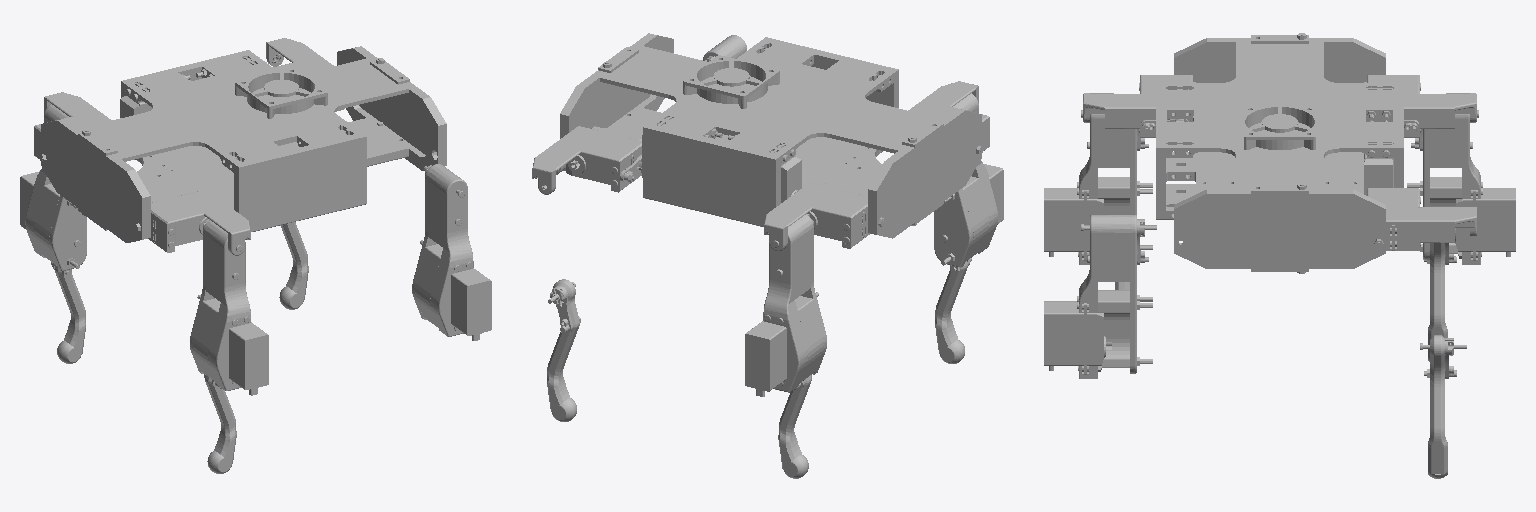
URDF robot description (urd_robot_cuadrupedo_v4):
<?xml version="1.0" encoding="utf-8"?>
<!-- This URDF was automatically created by SolidWorks to URDF Exporter! Originally created by [author] ([email redacted]) 
     Commit Version: 1.6.0-4-g7f85cfe  Build Version: 1.6.7995.38578
     For more information, please see http://wiki.ros.org/sw_urdf_exporter -->
<robot
  name="urd_robot_cuadrupedo_v4">
  <link
    name="base_robot">
    <inertial>
      <origin
        xyz="-0.0023228 3.1531E-05 0.022788"
        rpy="0 0 0" />
      <mass
        value="0.68605" />
      <inertia
        ixx="0.0011299"
        ixy="1.1936E-07"
        ixz="-1.0334E-06"
        iyy="0.0011234"
        iyz="-2.8781E-08"
        izz="0.0021297" />
    </inertial>
    <visual>
      <origin
        xyz="0 0 0"
        rpy="0 0 0" />
      <geometry>
        <mesh
          filename="package://urd_robot_cuadrupedo_v4/meshes/base_robot.STL" />
      </geometry>
      <material
        name="">
        <color
          rgba="0.75294 0.75294 0.75294 1" />
      </material>
    </visual>
    <collision>
      <origin
        xyz="0 0 0"
        rpy="0 0 0" />
      <geometry>
        <mesh
          filename="package://urd_robot_cuadrupedo_v4/meshes/base_robot.STL" />
      </geometry>
    </collision>
  </link>
  <link
    name="eslabon_coxa_derecha_delantera">
    <inertial>
      <origin
        xyz="-0.0090269 0.001623 0.035369"
        rpy="0 0 0" />
      <mass
        value="0.076" />
      <inertia
        ixx="1.4748E-05"
        ixy="4.9519E-07"
        ixz="2.4535E-06"
        iyy="2.7861E-05"
        iyz="-3.2608E-07"
        izz="1.7467E-05" />
    </inertial>
    <visual>
      <origin
        xyz="0 0 0"
        rpy="0 0 0" />
      <geometry>
        <mesh
          filename="package://urd_robot_cuadrupedo_v4/meshes/eslabon_coxa_derecha_delantera.STL" />
      </geometry>
      <material
        name="">
        <color
          rgba="0.75294 0.75294 0.75294 1" />
      </material>
    </visual>
    <collision>
      <origin
        xyz="0 0 0"
        rpy="0 0 0" />
      <geometry>
        <mesh
          filename="package://urd_robot_cuadrupedo_v4/meshes/eslabon_coxa_derecha_delantera.STL" />
      </geometry>
    </collision>
  </link>
  <joint
    name="Motor1"
    type="revolute">
    <origin
      xyz="0.0556 -0.0678 0.017"
      rpy="1.5708 0 1.5708" />
    <parent
      link="base_robot" />
    <child
      link="eslabon_coxa_derecha_delantera" />
    <axis
      xyz="0 0 1" />
    <limit
      lower="0"
      upper="0"
      effort="0"
      velocity="0" />
  </joint>
  <link
    name="eslabon_femur_derecha_delantera">
    <inertial>
      <origin
        xyz="-0.037916 -0.062962 -0.0024207"
        rpy="0 0 0" />
      <mass
        value="0.1022" />
      <inertia
        ixx="4.8323E-05"
        ixy="-2.073E-06"
        ixz="-1.9564E-07"
        iyy="1.3118E-05"
        iyz="-3.536E-06"
        izz="5.4793E-05" />
    </inertial>
    <visual>
      <origin
        xyz="0 0 0"
        rpy="0 0 0" />
      <geometry>
        <mesh
          filename="package://urd_robot_cuadrupedo_v4/meshes/eslabon_femur_derecha_delantera.STL" />
      </geometry>
      <material
        name="">
        <color
          rgba="0.75294 0.75294 0.75294 1" />
      </material>
    </visual>
    <collision>
      <origin
        xyz="0 0 0"
        rpy="0 0 0" />
      <geometry>
        <mesh
          filename="package://urd_robot_cuadrupedo_v4/meshes/eslabon_femur_derecha_delantera.STL" />
      </geometry>
    </collision>
  </link>
  <joint
    name="Motor5"
    type="revolute">
    <origin
      xyz="-0.0165 0.0002 0.0467"
      rpy="0 0 0" />
    <parent
      link="eslabon_coxa_derecha_delantera" />
    <child
      link="eslabon_femur_derecha_delantera" />
    <axis
      xyz="1 0 0" />
    <limit
      lower="0"
      upper="0"
      effort="0"
      velocity="0" />
  </joint>
  <link
    name="eslabon_tibia_derecha_delantera">
    <inertial>
      <origin
        xyz="-0.014256 -0.033591 -0.00052387"
        rpy="0 0 0" />
      <mass
        value="0.02333" />
      <inertia
        ixx="1.094E-05"
        ixy="1.3416E-08"
        ixz="3.5897E-09"
        iyy="7.9923E-07"
        iyz="8.1426E-07"
        izz="1.0939E-05" />
    </inertial>
    <visual>
      <origin
        xyz="0 0 0"
        rpy="0 0 0" />
      <geometry>
        <mesh
          filename="package://urd_robot_cuadrupedo_v4/meshes/eslabon_tibia_derecha_delantera.STL" />
      </geometry>
      <material
        name="">
        <color
          rgba="0.75294 0.75294 0.75294 1" />
      </material>
    </visual>
    <collision>
      <origin
        xyz="0 0 0"
        rpy="0 0 0" />
      <geometry>
        <mesh
          filename="package://urd_robot_cuadrupedo_v4/meshes/eslabon_tibia_derecha_delantera.STL" />
      </geometry>
    </collision>
  </link>
  <joint
    name="Motor9"
    type="revolute">
    <origin
      xyz="-0.0118 -0.09 0"
      rpy="0 0 0" />
    <parent
      link="eslabon_femur_derecha_delantera" />
    <child
      link="eslabon_tibia_derecha_delantera" />
    <axis
      xyz="1 0 0" />
    <limit
      lower="0"
      upper="0"
      effort="0"
      velocity="0" />
  </joint>
  <link
    name="eslabon_coxa_derecha_trazera">
    <inertial>
      <origin
        xyz="-0.0090269 0.0016241 -0.032487"
        rpy="0 0 0" />
      <mass
        value="0.076" />
      <inertia
        ixx="1.4778E-05"
        ixy="5.0366E-07"
        ixz="2.4094E-06"
        iyy="2.7891E-05"
        iyz="-3.4746E-07"
        izz="1.7467E-05" />
    </inertial>
    <visual>
      <origin
        xyz="0 0 0"
        rpy="0 0 0" />
      <geometry>
        <mesh
          filename="package://urd_robot_cuadrupedo_v4/meshes/eslabon_coxa_derecha_trazera.STL" />
      </geometry>
      <material
        name="">
        <color
          rgba="0.75294 0.75294 0.75294 1" />
      </material>
    </visual>
    <collision>
      <origin
        xyz="0 0 0"
        rpy="0 0 0" />
      <geometry>
        <mesh
          filename="package://urd_robot_cuadrupedo_v4/meshes/eslabon_coxa_derecha_trazera.STL" />
      </geometry>
    </collision>
  </link>
  <joint
    name="Motor2"
    type="revolute">
    <origin
      xyz="-0.0556 -0.0678 0.017"
      rpy="1.5708 0 1.5708" />
    <parent
      link="base_robot" />
    <child
      link="eslabon_coxa_derecha_trazera" />
    <axis
      xyz="0 0 1" />
    <limit
      lower="0"
      upper="0"
      effort="0"
      velocity="0" />
  </joint>
  <link
    name="eslabon_femur_derecha_trazera">
    <inertial>
      <origin
        xyz="-0.037916 -0.062962 -0.0024207"
        rpy="0 0 0" />
      <mass
        value="0.1022" />
      <inertia
        ixx="4.8323E-05"
        ixy="-2.073E-06"
        ixz="-1.9564E-07"
        iyy="1.3118E-05"
        iyz="-3.536E-06"
        izz="5.4793E-05" />
    </inertial>
    <visual>
      <origin
        xyz="0 0 0"
        rpy="0 0 0" />
      <geometry>
        <mesh
          filename="package://urd_robot_cuadrupedo_v4/meshes/eslabon_femur_derecha_trazera.STL" />
      </geometry>
      <material
        name="">
        <color
          rgba="0.75294 0.75294 0.75294 1" />
      </material>
    </visual>
    <collision>
      <origin
        xyz="0 0 0"
        rpy="0 0 0" />
      <geometry>
        <mesh
          filename="package://urd_robot_cuadrupedo_v4/meshes/eslabon_femur_derecha_trazera.STL" />
      </geometry>
    </collision>
  </link>
  <joint
    name="Motor6"
    type="revolute">
    <origin
      xyz="-0.0165 0.0002 -0.0267"
      rpy="0 0 0" />
    <parent
      link="eslabon_coxa_derecha_trazera" />
    <child
      link="eslabon_femur_derecha_trazera" />
    <axis
      xyz="1 0 0" />
    <limit
      lower="0"
      upper="0"
      effort="0"
      velocity="0" />
  </joint>
  <link
    name="eslabon_tibia_derecha_trazera">
    <inertial>
      <origin
        xyz="-0.014256 -0.033591 -0.00052387"
        rpy="0 0 0" />
      <mass
        value="0.02333" />
      <inertia
        ixx="1.094E-05"
        ixy="1.3416E-08"
        ixz="3.5897E-09"
        iyy="7.9923E-07"
        iyz="8.1426E-07"
        izz="1.0939E-05" />
    </inertial>
    <visual>
      <origin
        xyz="0 0 0"
        rpy="0 0 0" />
      <geometry>
        <mesh
          filename="package://urd_robot_cuadrupedo_v4/meshes/eslabon_tibia_derecha_trazera.STL" />
      </geometry>
      <material
        name="">
        <color
          rgba="0.75294 0.75294 0.75294 1" />
      </material>
    </visual>
    <collision>
      <origin
        xyz="0 0 0"
        rpy="0 0 0" />
      <geometry>
        <mesh
          filename="package://urd_robot_cuadrupedo_v4/meshes/eslabon_tibia_derecha_trazera.STL" />
      </geometry>
    </collision>
  </link>
  <joint
    name="Motor10"
    type="revolute">
    <origin
      xyz="-0.0118 -0.09 0"
      rpy="0 0 0" />
    <parent
      link="eslabon_femur_derecha_trazera" />
    <child
      link="eslabon_tibia_derecha_trazera" />
    <axis
      xyz="1 0 0" />
    <limit
      lower="0"
      upper="0"
      effort="0"
      velocity="0" />
  </joint>
  <link
    name="eslabon_coxa_izquierda_delantera">
    <inertial>
      <origin
        xyz="0.0090266 0.001627 0.035374"
        rpy="0 0 0" />
      <mass
        value="0.075981" />
      <inertia
        ixx="1.4729E-05"
        ixy="-5.0055E-07"
        ixz="-2.4484E-06"
        iyy="2.7844E-05"
        iyz="-3.1785E-07"
        izz="1.746E-05" />
    </inertial>
    <visual>
      <origin
        xyz="0 0 0"
        rpy="0 0 0" />
      <geometry>
        <mesh
          filename="package://urd_robot_cuadrupedo_v4/meshes/eslabon_coxa_izquierda_delantera.STL" />
      </geometry>
      <material
        name="">
        <color
          rgba="0.75294 0.75294 0.75294 1" />
      </material>
    </visual>
    <collision>
      <origin
        xyz="0 0 0"
        rpy="0 0 0" />
      <geometry>
        <mesh
          filename="package://urd_robot_cuadrupedo_v4/meshes/eslabon_coxa_izquierda_delantera.STL" />
      </geometry>
    </collision>
  </link>
  <joint
    name="Motor3"
    type="revolute">
    <origin
      xyz="0.0556 0.0678 0.017"
      rpy="1.5708 0 1.5708" />
    <parent
      link="base_robot" />
    <child
      link="eslabon_coxa_izquierda_delantera" />
    <axis
      xyz="0 0 1" />
    <limit
      lower="0"
      upper="0"
      effort="0"
      velocity="0" />
  </joint>
  <link
    name="eslabon_femur_izquierda_delantera">
    <inertial>
      <origin
        xyz="0.037916 -0.062962 -0.0024214"
        rpy="0 0 0" />
      <mass
        value="0.1022" />
      <inertia
        ixx="4.8323E-05"
        ixy="2.073E-06"
        ixz="1.9572E-07"
        iyy="1.3118E-05"
        iyz="-3.5447E-06"
        izz="5.4793E-05" />
    </inertial>
    <visual>
      <origin
        xyz="0 0 0"
        rpy="0 0 0" />
      <geometry>
        <mesh
          filename="package://urd_robot_cuadrupedo_v4/meshes/eslabon_femur_izquierda_delantera.STL" />
      </geometry>
      <material
        name="">
        <color
          rgba="0.75294 0.75294 0.75294 1" />
      </material>
    </visual>
    <collision>
      <origin
        xyz="0 0 0"
        rpy="0 0 0" />
      <geometry>
        <mesh
          filename="package://urd_robot_cuadrupedo_v4/meshes/eslabon_femur_izquierda_delantera.STL" />
      </geometry>
    </collision>
  </link>
  <joint
    name="Motor7"
    type="revolute">
    <origin
      xyz="0.0165 0.0002 0.0467"
      rpy="0 0 0" />
    <parent
      link="eslabon_coxa_izquierda_delantera" />
    <child
      link="eslabon_femur_izquierda_delantera" />
    <axis
      xyz="1 0 0" />
    <limit
      lower="0"
      upper="0"
      effort="0"
      velocity="0" />
  </joint>
  <link
    name="eslabon_tibia_izquierda_delantera">
    <inertial>
      <origin
        xyz="0.014256 -0.033592 -0.00052045"
        rpy="0 0 0" />
      <mass
        value="0.02333" />
      <inertia
        ixx="1.094E-05"
        ixy="-1.3419E-08"
        ixz="-3.601E-09"
        iyy="7.95E-07"
        iyz="8.2159E-07"
        izz="1.0943E-05" />
    </inertial>
    <visual>
      <origin
        xyz="0 0 0"
        rpy="0 0 0" />
      <geometry>
        <mesh
          filename="package://urd_robot_cuadrupedo_v4/meshes/eslabon_tibia_izquierda_delantera.STL" />
      </geometry>
      <material
        name="">
        <color
          rgba="0.75294 0.75294 0.75294 1" />
      </material>
    </visual>
    <collision>
      <origin
        xyz="0 0 0"
        rpy="0 0 0" />
      <geometry>
        <mesh
          filename="package://urd_robot_cuadrupedo_v4/meshes/eslabon_tibia_izquierda_delantera.STL" />
      </geometry>
    </collision>
  </link>
  <joint
    name="Motor11"
    type="revolute">
    <origin
      xyz="0.0118 -0.09 0"
      rpy="0 0 0" />
    <parent
      link="eslabon_femur_izquierda_delantera" />
    <child
      link="eslabon_tibia_izquierda_delantera" />
    <axis
      xyz="1 0 0" />
    <limit
      lower="0"
      upper="0"
      effort="0"
      velocity="0" />
  </joint>
  <link
    name="eslabon_coxa_izquierda_trasera">
    <inertial>
      <origin
        xyz="0.0090269 0.0016228 -0.032531"
        rpy="0 0 0" />
      <mass
        value="0.076" />
      <inertia
        ixx="1.4778E-05"
        ixy="-4.9508E-07"
        ixz="-2.4094E-06"
        iyy="2.7891E-05"
        iyz="-3.4767E-07"
        izz="1.7466E-05" />
    </inertial>
    <visual>
      <origin
        xyz="0 0 0"
        rpy="0 0 0" />
      <geometry>
        <mesh
          filename="package://urd_robot_cuadrupedo_v4/meshes/eslabon_coxa_izquierda_trasera.STL" />
      </geometry>
      <material
        name="">
        <color
          rgba="0.75294 0.75294 0.75294 1" />
      </material>
    </visual>
    <collision>
      <origin
        xyz="0 0 0"
        rpy="0 0 0" />
      <geometry>
        <mesh
          filename="package://urd_robot_cuadrupedo_v4/meshes/eslabon_coxa_izquierda_trasera.STL" />
      </geometry>
    </collision>
  </link>
  <joint
    name="Motor4"
    type="revolute">
    <origin
      xyz="-0.0556 0.0678 0.017"
      rpy="1.5708 0 1.5708" />
    <parent
      link="base_robot" />
    <child
      link="eslabon_coxa_izquierda_trasera" />
    <axis
      xyz="0 0 1" />
    <limit
      lower="0"
      upper="0"
      effort="0"
      velocity="0" />
  </joint>
  <link
    name="eslabon_femur_izquierda_trazera">
    <inertial>
      <origin
        xyz="0.037916 -0.062962 -0.0024214"
        rpy="0 0 0" />
      <mass
        value="0.1022" />
      <inertia
        ixx="4.8323E-05"
        ixy="2.073E-06"
        ixz="1.9572E-07"
        iyy="1.3118E-05"
        iyz="-3.5447E-06"
        izz="5.4793E-05" />
    </inertial>
    <visual>
      <origin
        xyz="0 0 0"
        rpy="0 0 0" />
      <geometry>
        <mesh
          filename="package://urd_robot_cuadrupedo_v4/meshes/eslabon_femur_izquierda_trazera.STL" />
      </geometry>
      <material
        name="">
        <color
          rgba="0.75294 0.75294 0.75294 1" />
      </material>
    </visual>
    <collision>
      <origin
        xyz="0 0 0"
        rpy="0 0 0" />
      <geometry>
        <mesh
          filename="package://urd_robot_cuadrupedo_v4/meshes/eslabon_femur_izquierda_trazera.STL" />
      </geometry>
    </collision>
  </link>
  <joint
    name="Motor8"
    type="revolute">
    <origin
      xyz="0.0165 0.0002 -0.0267"
      rpy="0 0 0" />
    <parent
      link="eslabon_coxa_izquierda_trasera" />
    <child
      link="eslabon_femur_izquierda_trazera" />
    <axis
      xyz="1 0 0" />
    <limit
      lower="0"
      upper="0"
      effort="0"
      velocity="0" />
  </joint>
  <link
    name="eslabon_tibia_izquierda_trasera">
    <inertial>
      <origin
        xyz="0.014256 -0.033592 -0.00052045"
        rpy="0 0 0" />
      <mass
        value="0.02333" />
      <inertia
        ixx="1.094E-05"
        ixy="-1.3419E-08"
        ixz="-3.601E-09"
        iyy="7.95E-07"
        iyz="8.2159E-07"
        izz="1.0943E-05" />
    </inertial>
    <visual>
      <origin
        xyz="0 0 0"
        rpy="0 0 0" />
      <geometry>
        <mesh
          filename="package://urd_robot_cuadrupedo_v4/meshes/eslabon_tibia_izquierda_trasera.STL" />
      </geometry>
      <material
        name="">
        <color
          rgba="0.75294 0.75294 0.75294 1" />
      </material>
    </visual>
    <collision>
      <origin
        xyz="0 0 0"
        rpy="0 0 0" />
      <geometry>
        <mesh
          filename="package://urd_robot_cuadrupedo_v4/meshes/eslabon_tibia_izquierda_trasera.STL" />
      </geometry>
    </collision>
  </link>
  <joint
    name="Motor12"
    type="revolute">
    <origin
      xyz="0.0118 -0.09 0"
      rpy="0 0 0" />
    <parent
      link="eslabon_femur_izquierda_trazera" />
    <child
      link="eslabon_tibia_izquierda_trasera" />
    <axis
      xyz="1 0 0" />
    <limit
      lower="0"
      upper="0"
      effort="0"
      velocity="0" />
  </joint>
</robot>

--- Facts derived from the render (not from the file) ---
The picture shows the robot from 3 angles, left to right: view 1: azimuth 30°, elevation 25°; view 2: azimuth 150°, elevation 25°; view 3: azimuth 270°, elevation 25°; orthographic projection.
Robot: urd_robot_cuadrupedo_v4 — 13 links, 12 joints (12 revolute); root link base_robot; default pose: every joint at zero.
Links seen in each view (by area): view 1: base_robot, eslabon_femur_derecha_delantera, eslabon_femur_derecha_trazera, eslabon_femur_izquierda_trazera, eslabon_coxa_derecha_trazera, eslabon_tibia_izquierda_trasera, eslabon_tibia_derecha_trazera, eslabon_tibia_izquierda_delantera, eslabon_coxa_izquierda_trasera, eslabon_coxa_izquierda_delantera; view 2: base_robot, eslabon_femur_izquierda_trazera, eslabon_femur_derecha_trazera, eslabon_coxa_izquierda_delantera, eslabon_coxa_izquierda_trasera, eslabon_tibia_izquierda_delantera, eslabon_tibia_derecha_trazera, eslabon_tibia_izquierda_trasera, eslabon_coxa_derecha_trazera, eslabon_femur_derecha_delantera; view 3: base_robot, eslabon_femur_derecha_delantera, eslabon_femur_izquierda_trazera, eslabon_femur_derecha_trazera, eslabon_coxa_izquierda_delantera, eslabon_coxa_derecha_trazera, eslabon_coxa_izquierda_trasera, eslabon_tibia_izquierda_delantera, eslabon_tibia_izquierda_trasera.
Link boxes in pixels (bbox=[...]): base_robot: bbox=[41, 46, 446, 242]; eslabon_femur_derecha_delantera: bbox=[412, 164, 491, 340]; eslabon_femur_derecha_trazera: bbox=[190, 219, 268, 395]; eslabon_femur_izquierda_trazera: bbox=[20, 104, 86, 270]; eslabon_coxa_derecha_trazera: bbox=[134, 190, 250, 255]; eslabon_tibia_izquierda_trasera: bbox=[51, 240, 85, 363]; eslabon_tibia_derecha_trazera: bbox=[204, 374, 236, 473]; eslabon_tibia_izquierda_delantera: bbox=[279, 222, 308, 309]; eslabon_coxa_izquierda_trasera: bbox=[34, 92, 111, 162]; eslabon_coxa_izquierda_delantera: bbox=[266, 38, 344, 111]; base_robot: bbox=[560, 33, 981, 238]; eslabon_femur_izquierda_trazera: bbox=[745, 214, 826, 396]; eslabon_femur_derecha_trazera: bbox=[934, 93, 1003, 267]; eslabon_coxa_izquierda_delantera: bbox=[532, 126, 641, 194]; eslabon_coxa_izquierda_trasera: bbox=[764, 182, 884, 250]; eslabon_tibia_izquierda_delantera: bbox=[547, 279, 580, 421]; eslabon_tibia_derecha_trazera: bbox=[935, 235, 971, 363]; eslabon_tibia_izquierda_trasera: bbox=[778, 375, 811, 478]; eslabon_coxa_derecha_trazera: bbox=[908, 81, 989, 154]; eslabon_femur_derecha_delantera: bbox=[703, 35, 746, 61]; base_robot: bbox=[1156, 33, 1403, 273]; eslabon_femur_derecha_delantera: bbox=[1044, 215, 1156, 378]; eslabon_femur_izquierda_trazera: bbox=[1407, 110, 1515, 264]; eslabon_femur_derecha_trazera: bbox=[1044, 110, 1152, 264]; eslabon_coxa_izquierda_delantera: bbox=[1367, 188, 1476, 250]; eslabon_coxa_derecha_trazera: bbox=[1083, 75, 1195, 137]; eslabon_coxa_izquierda_trasera: bbox=[1364, 75, 1476, 137]; eslabon_tibia_izquierda_delantera: bbox=[1420, 335, 1466, 478]; eslabon_tibia_izquierda_trasera: bbox=[1424, 243, 1456, 361].
Bounding box of the posed robot: 0.2578 × 0.3228 × 0.2361 m (x, y, z).
Meshes: 13 distinct files referenced, 10 mesh visuals loaded (10 binary STL); not drawn: 3 (reference not matched to a file when rendering).